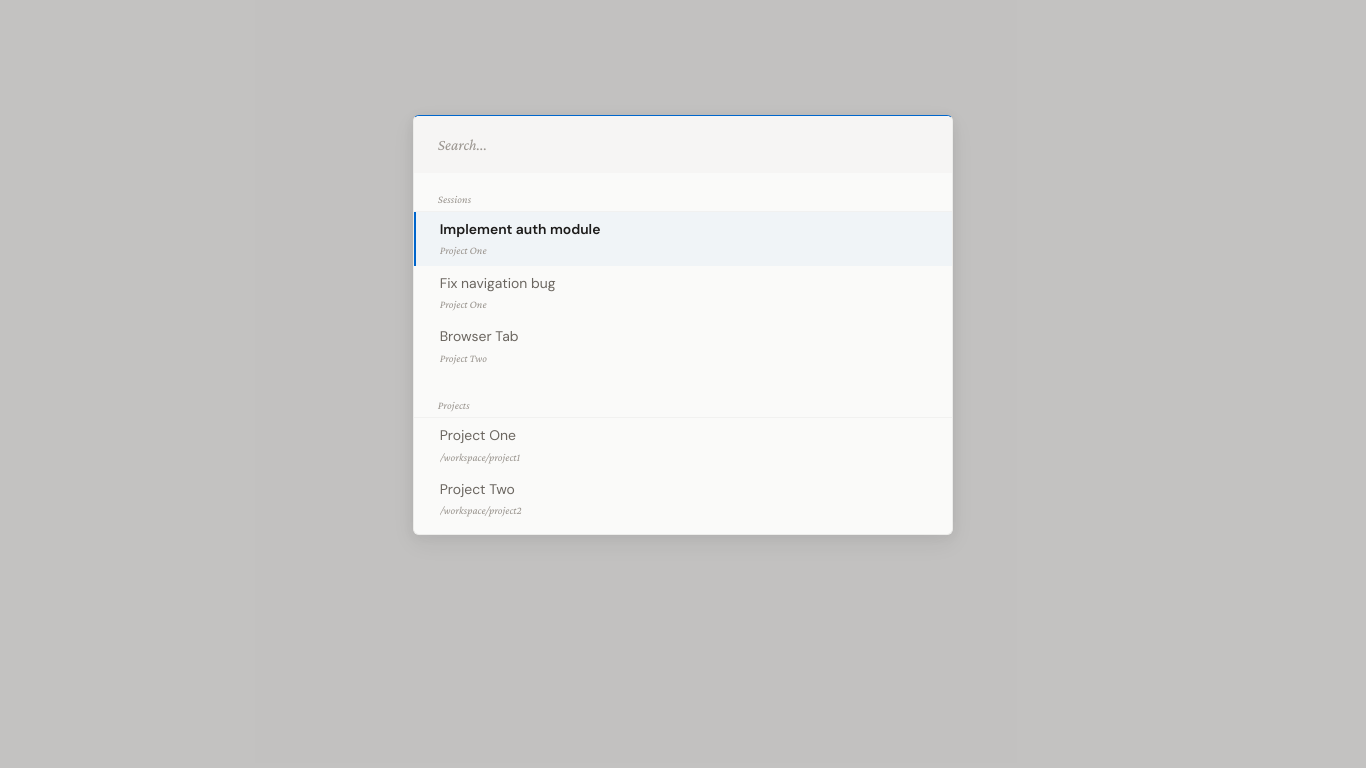
Test: CommandPalette › shows "Nothing matched" when no items match
Type "zzzzzzzzz" into the field with placeholder "Search...".
click(683, 144); type("zzzzzzzzz")  # box x1=414 y1=116 x2=952 y2=173
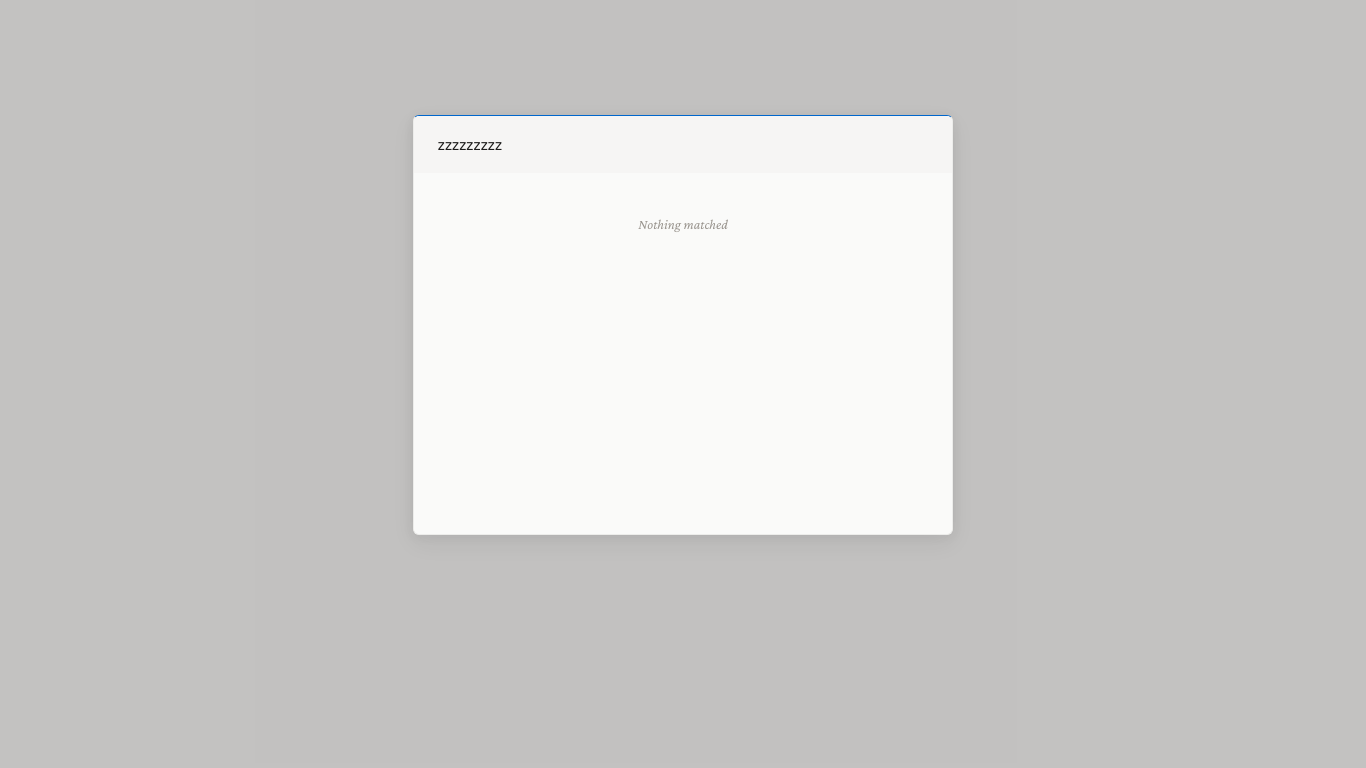
Expected: the text "Nothing matched" is shown, x1=638 y1=217 x2=728 y2=232
